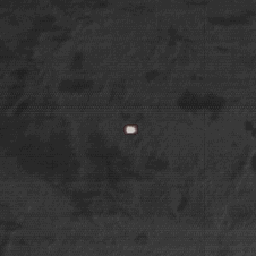Target: (125, 125, 138, 134)
